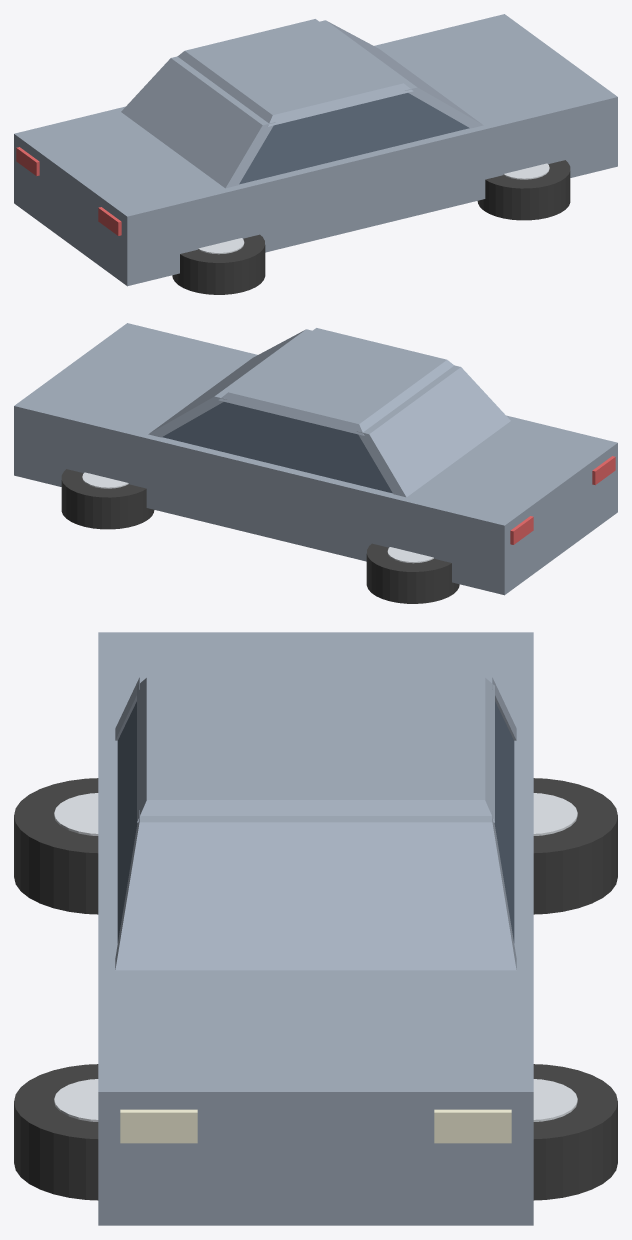
Rendered from toyota_camry.glb.
3 renders of one model, top to bottom at view 1: azimuth 30°, elevation 25°; view 2: azimuth 150°, elevation 25°; view 3: azimuth 270°, elevation 25°, orthographic. The views are drawn at different scales.
Parts seen in each view (by area): view 1: geometry_0, geometry_2, geometry_4, geometry_1, geometry_5, geometry_9, geometry_3, geometry_6, geometry_10, geometry_16, geometry_14; view 2: geometry_0, geometry_2, geometry_4, geometry_1, geometry_7, geometry_11, geometry_3, geometry_8, geometry_12, geometry_14, geometry_16; view 3: geometry_0, geometry_3, geometry_2, geometry_9, geometry_11, geometry_5, geometry_7, geometry_1, geometry_13, geometry_15, geometry_6, geometry_8 (+3 smaller).
Boxes of the visible parts, <box> form: geometry_0: <box>14,14,617,286</box>; geometry_2: <box>177,19,413,126</box>; geometry_4: <box>121,56,275,188</box>; geometry_1: <box>239,93,469,184</box>; geometry_5: <box>477,160,570,220</box>; geometry_9: <box>172,234,265,294</box>; geometry_3: <box>320,20,483,128</box>; geometry_6: <box>503,163,549,179</box>; geometry_10: <box>198,238,244,254</box>; geometry_16: <box>16,147,39,176</box>; geometry_14: <box>98,207,121,235</box>; geometry_0: <box>14,323,617,595</box>; geometry_2: <box>218,328,454,435</box>; geometry_4: <box>356,365,510,497</box>; geometry_1: <box>162,402,392,493</box>; geometry_7: <box>61,469,154,529</box>; geometry_11: <box>366,543,459,603</box>; geometry_3: <box>148,329,311,437</box>; geometry_8: <box>82,472,128,488</box>; geometry_12: <box>387,547,433,563</box>; geometry_14: <box>592,456,615,485</box>; geometry_16: <box>510,516,533,544</box>; geometry_0: <box>98,632,533,1225</box>; geometry_3: <box>115,810,516,970</box>; geometry_2: <box>137,677,494,822</box>; geometry_9: <box>14,778,98,914</box>; geometry_11: <box>533,778,617,914</box>; geometry_5: <box>14,1064,98,1200</box>; geometry_7: <box>533,1064,617,1200</box>; geometry_1: <box>117,701,514,942</box>; geometry_13: <box>120,1109,197,1143</box>; geometry_15: <box>434,1109,511,1143</box>; geometry_6: <box>54,1079,98,1121</box>; geometry_8: <box>533,1079,577,1121</box>.
Size of the model in its own units: 4.56 by 1.2 by 2.5.
